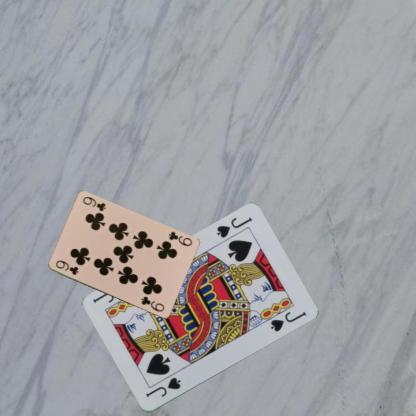9c: (52, 258, 80, 276), (166, 229, 193, 247)
Js: (213, 214, 254, 240), (143, 375, 182, 400)
